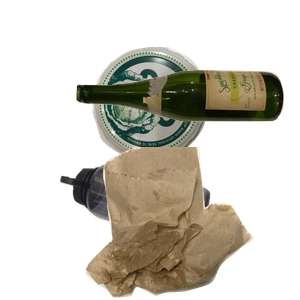glass: (74, 67, 300, 181)
metal: (90, 44, 289, 195)
plastic: (58, 162, 261, 300)
trash: (83, 147, 300, 300)
